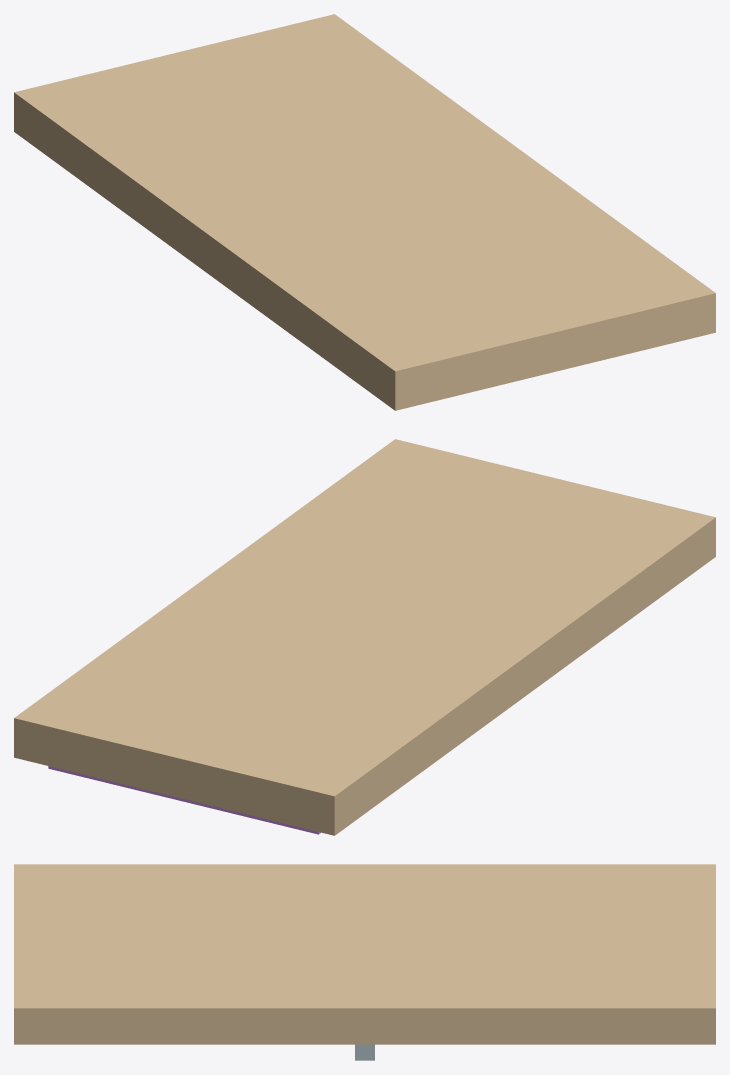
The model's file is exterior-door.glb.
3 renders of one model, top to bottom at view 1: azimuth 30°, elevation 25°; view 2: azimuth 150°, elevation 25°; view 3: azimuth 270°, elevation 25°, orthographic. The views are drawn at different scales.
Visible parts, largest first — view 1: world; view 2: world; view 3: world.
Part boxes in pixels (x1,y1,x2,y2): world: (14, 14, 715, 410); world: (14, 439, 715, 835); world: (14, 864, 715, 1060).
Bounding box in the file's own units: 1.02 × 0.21 × 2.1.
